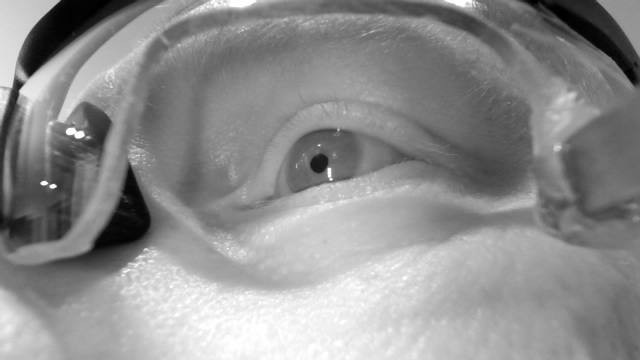pupil: (310, 153, 329, 174)
